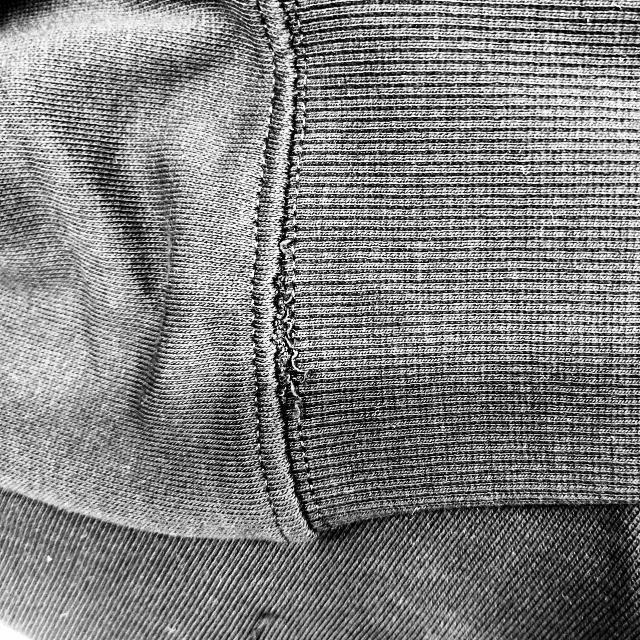Sewing_error: (254, 289, 306, 421)
